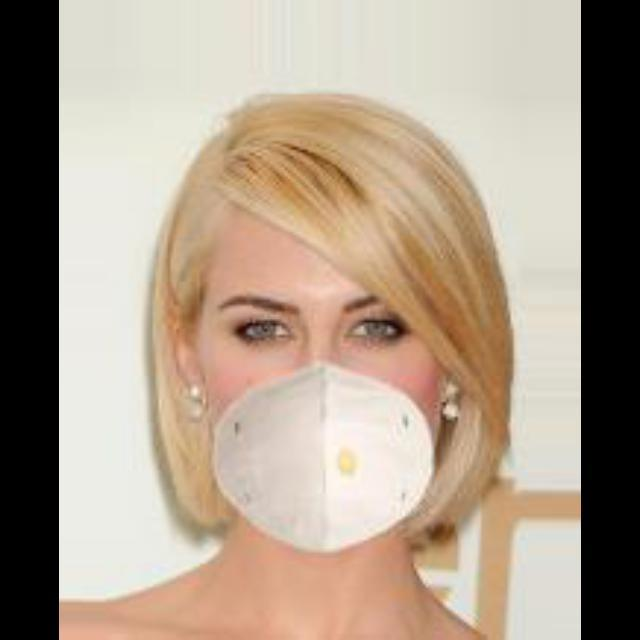suspicion: (148, 150, 492, 574)
